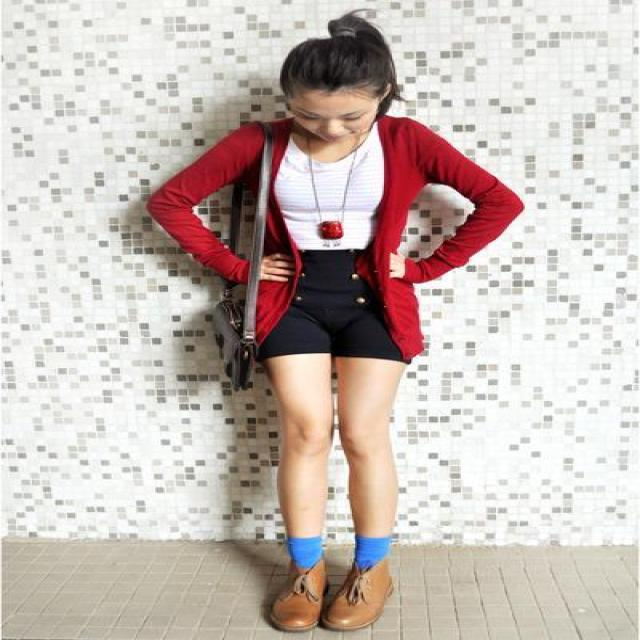bag: (205, 271, 259, 359)
jacket: (144, 115, 523, 364)
shirt: (262, 140, 382, 250)
shoe: (283, 544, 394, 625)
shorts: (234, 250, 402, 368)
